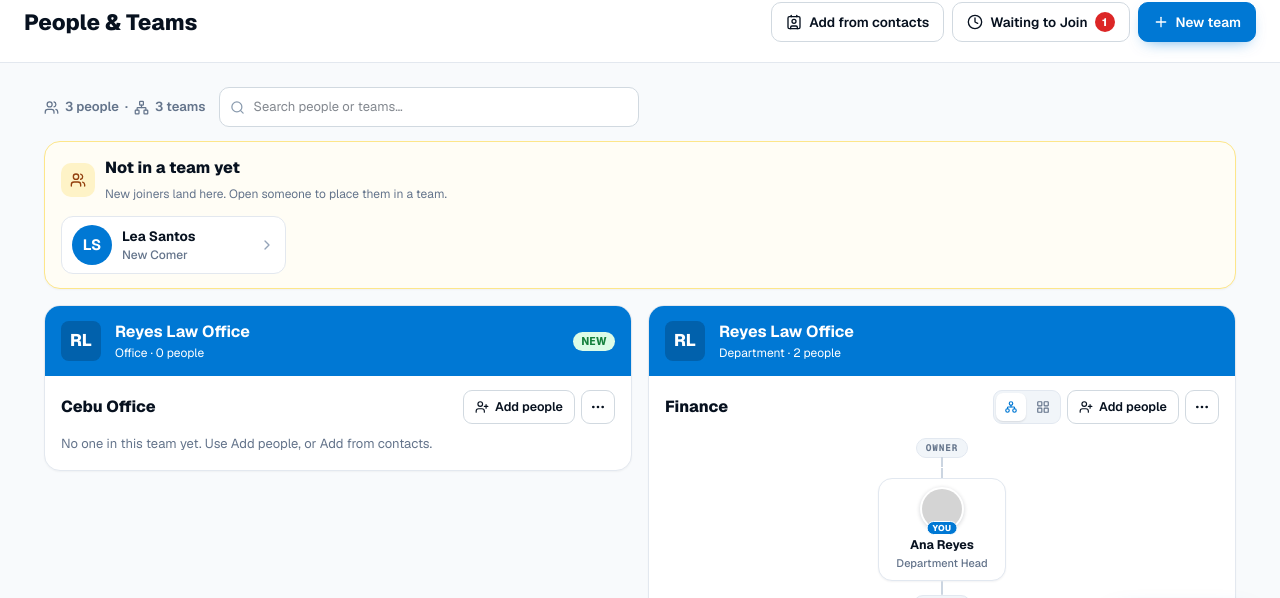
a team as a tree › puts people on levels by role, the owner at the top, and switches to a grid and back
Check: the button with test id "tree-node-u1" shows "Department Head", box [878, 478, 1006, 581]
Click the button with test id "view-grid-un_old".
click(1043, 407)  # box [1028, 393, 1058, 421]
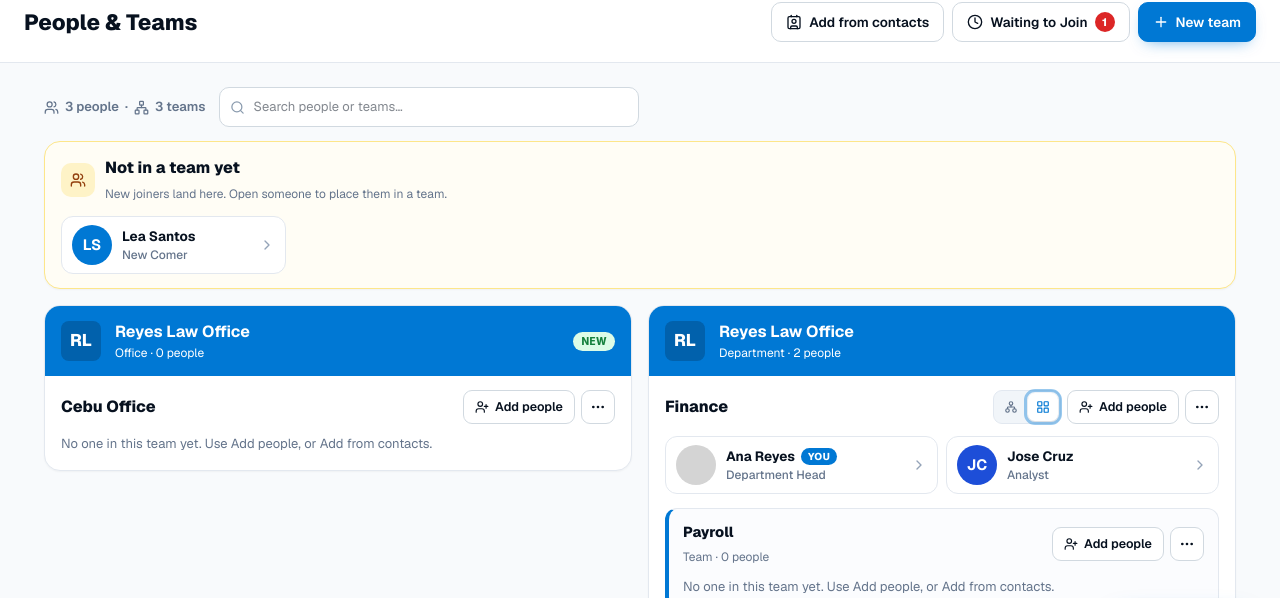
Check: the button with test id "person-u3" is shown, box [946, 436, 1219, 494]
Click the button with test id "view-tree-un_old".
click(1011, 407)  # box [996, 393, 1026, 421]
(page scrolled)
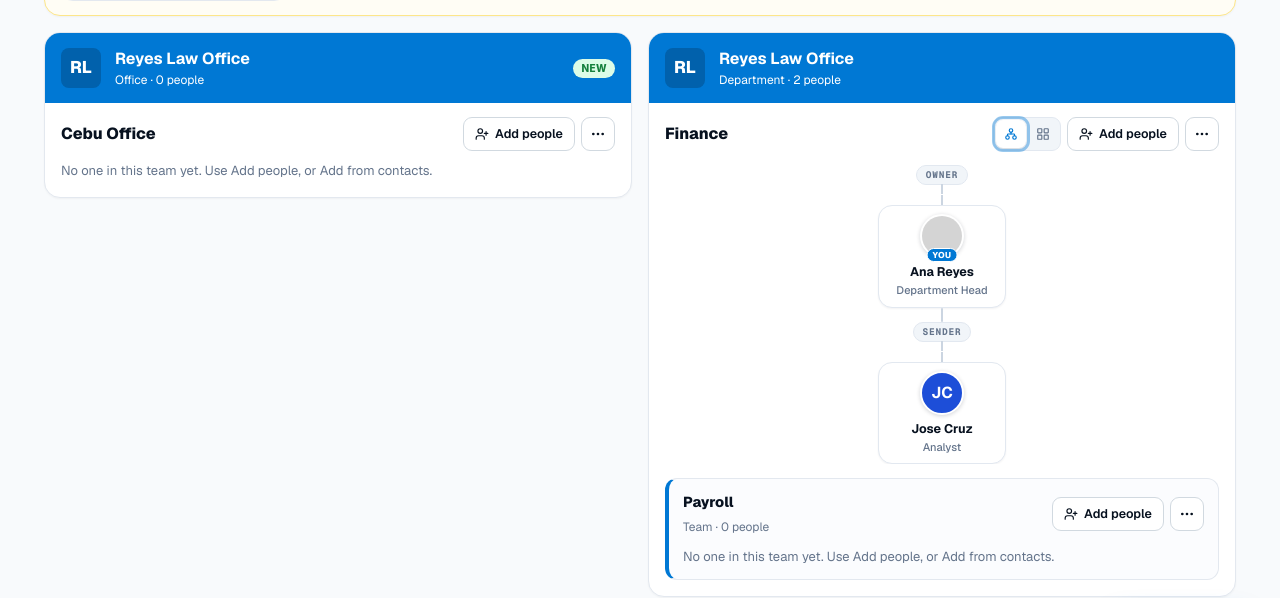
Check: the element with test id "team-tree-view" is shown, box [878, 165, 1006, 464]
